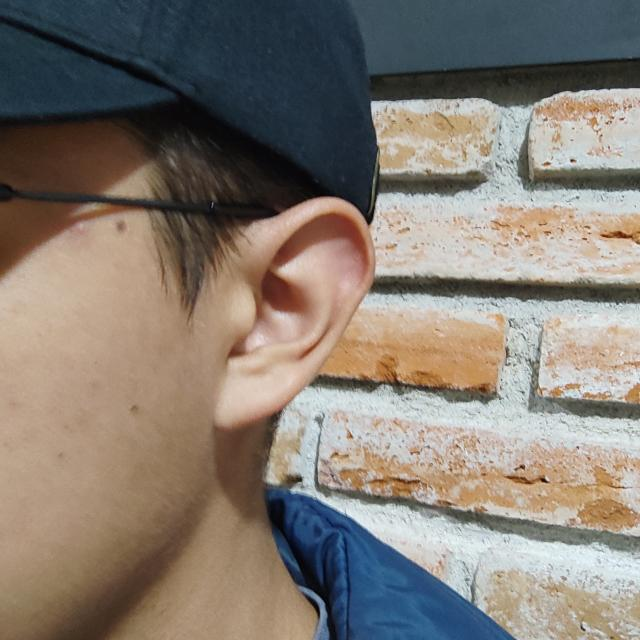ear: (212, 196, 375, 431)
